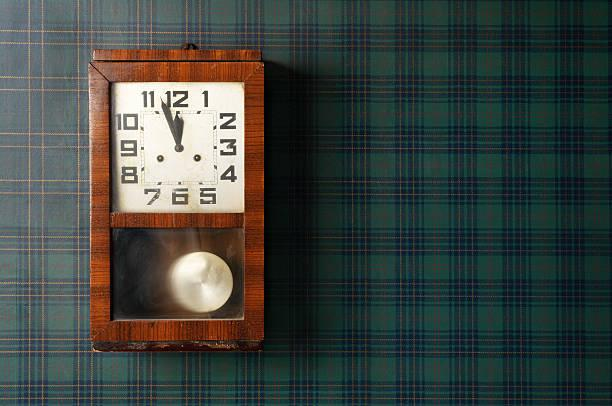clock: (115, 81, 248, 219)
